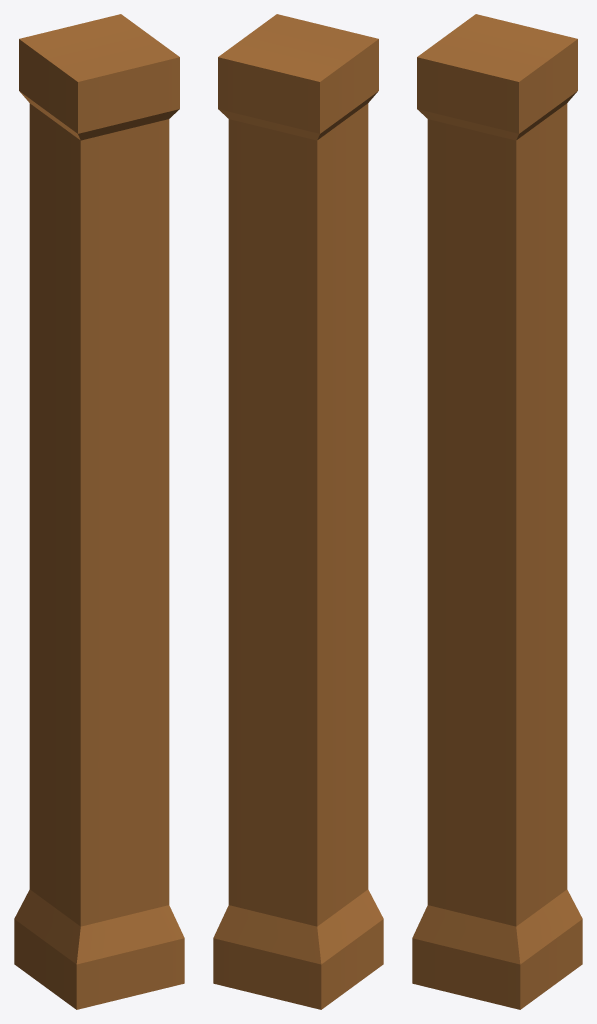
The model's file is Pillar_Wood_02.fbx.
3 renders of one model, left to right at view 1: azimuth 30°, elevation 25°; view 2: azimuth 150°, elevation 25°; view 3: azimuth 330°, elevation 25°, orthographic.
Visible parts, largest first — view 1: Pillar_Wood_02; view 2: Pillar_Wood_02; view 3: Pillar_Wood_02.
Boxes of the visible parts, left/top/right/bottom form: Pillar_Wood_02: left=14, top=14, right=184, bottom=1009; Pillar_Wood_02: left=213, top=14, right=383, bottom=1009; Pillar_Wood_02: left=412, top=14, right=582, bottom=1009.
Size of the model in its own units: 0.4887 by 4 by 0.4887.
